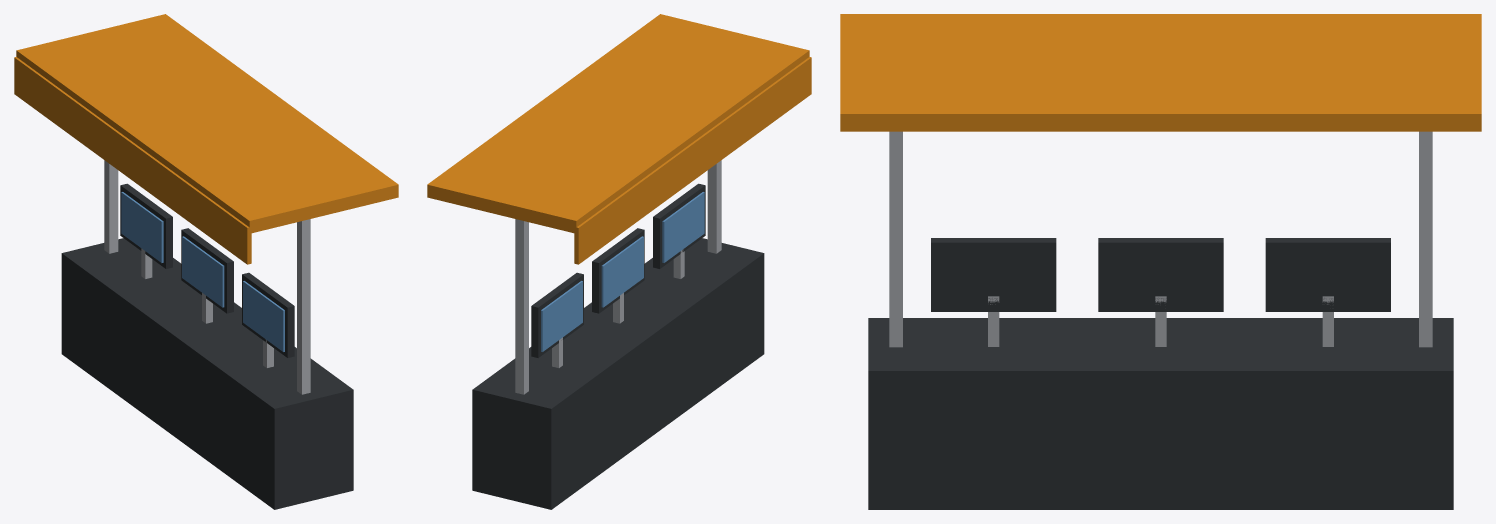
The model's file is bancada_3.glb.
3 views of the same model, side by side, from view 1: azimuth 30°, elevation 25°; view 2: azimuth 150°, elevation 25°; view 3: azimuth 270°, elevation 25° (orthographic). The views are drawn at different scales.
Parts seen in each view (by area): view 1: cor, esc, tel, aco; view 2: cor, esc, tel, aco; view 3: esc, cor, aco.
Boxes of the visible parts, x1,y1,x2,y2 form: cor: (14,14,398,264); esc: (61,183,353,509); tel: (121,192,284,351); aco: (104,160,310,394); cor: (427,14,811,264); esc: (472,183,764,509); tel: (541,192,704,351); aco: (515,160,721,394); esc: (868,238,1453,509); cor: (840,14,1481,131); aco: (889,131,1432,347).
Bounding box in the file's own units: 1.73 × 3.32 × 4.6.
